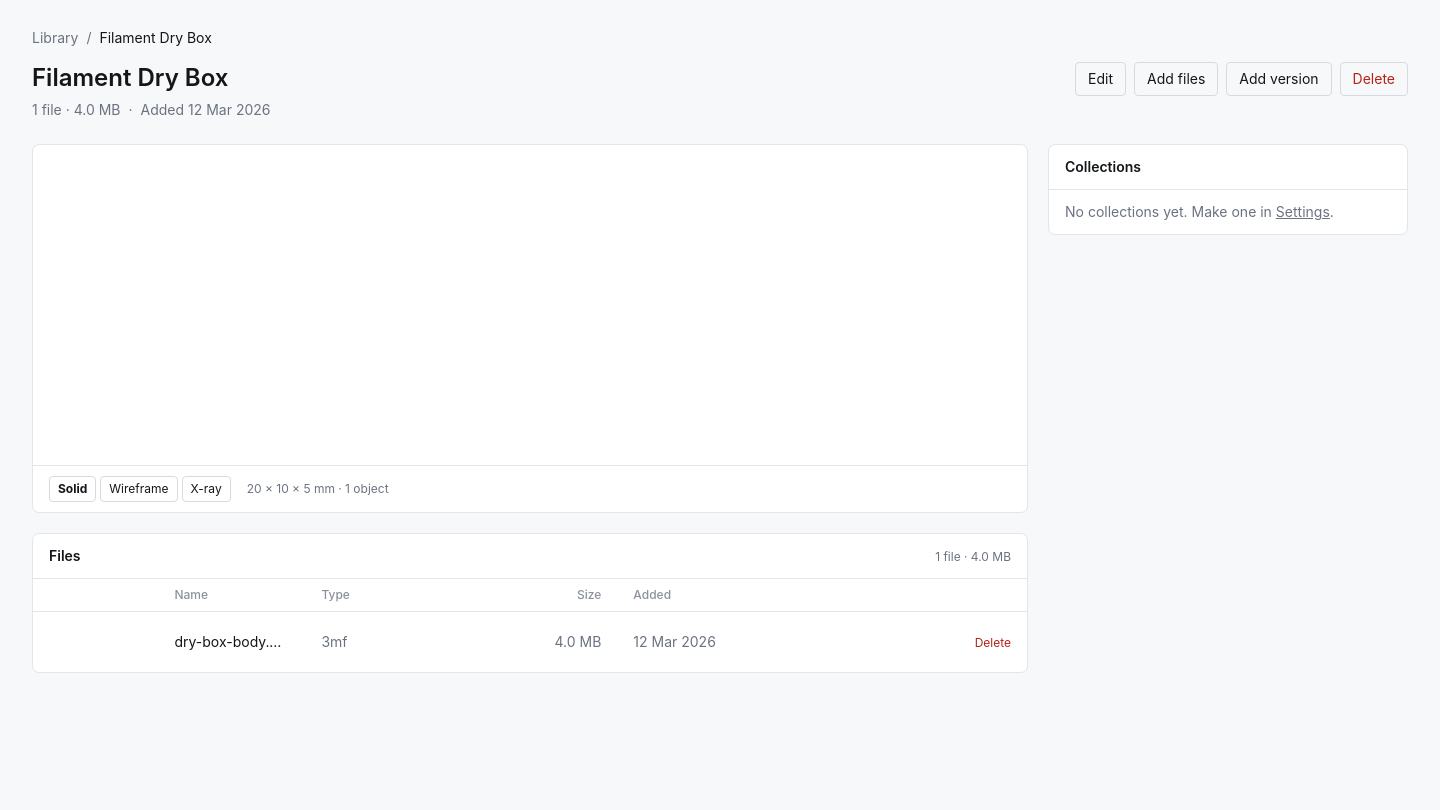
model detail page › keeps the delete dialog open when the delete itself fails
Check: the link "dry-box-body.3mf" is shown, box [174,632,289,652]
Click the button with aria-label "Delete dry-box-body.3mf": (993, 643) [975,635,1011,651]
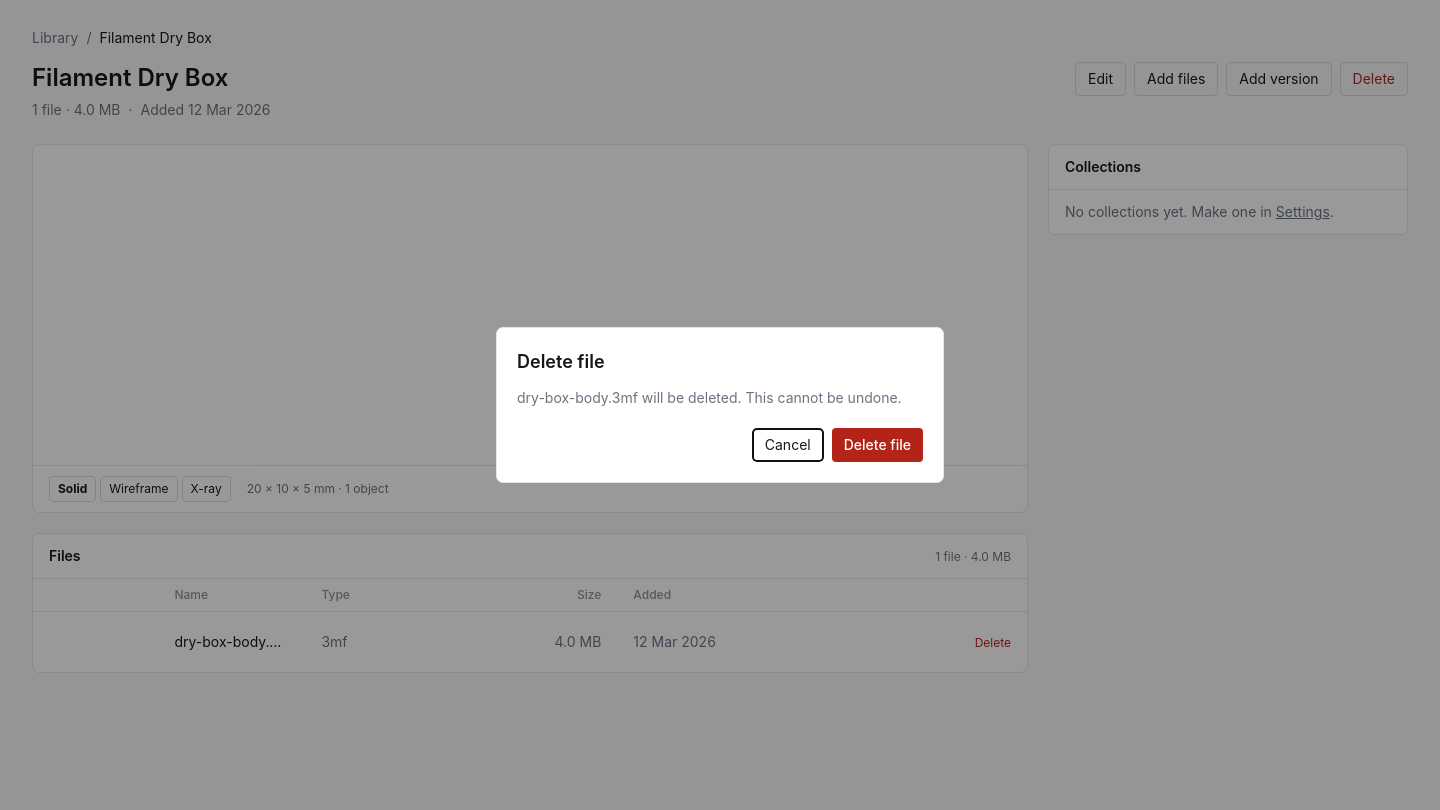
Click the button "Delete file": (877, 445) [832,428,923,462]
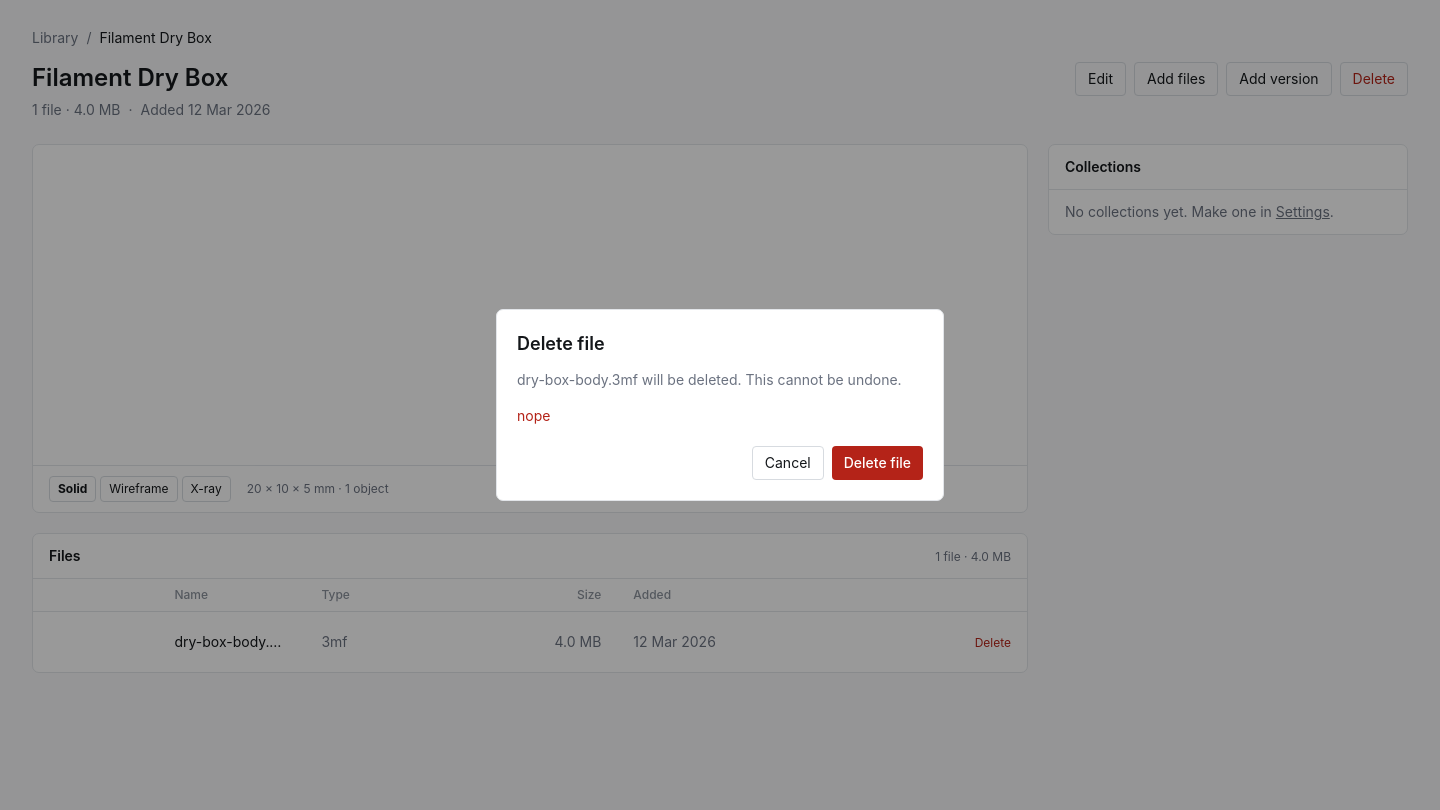
Check: the button "Delete file" is shown, box [832,446,923,480]
Check: the message reads "nope", box [517,407,550,424]
